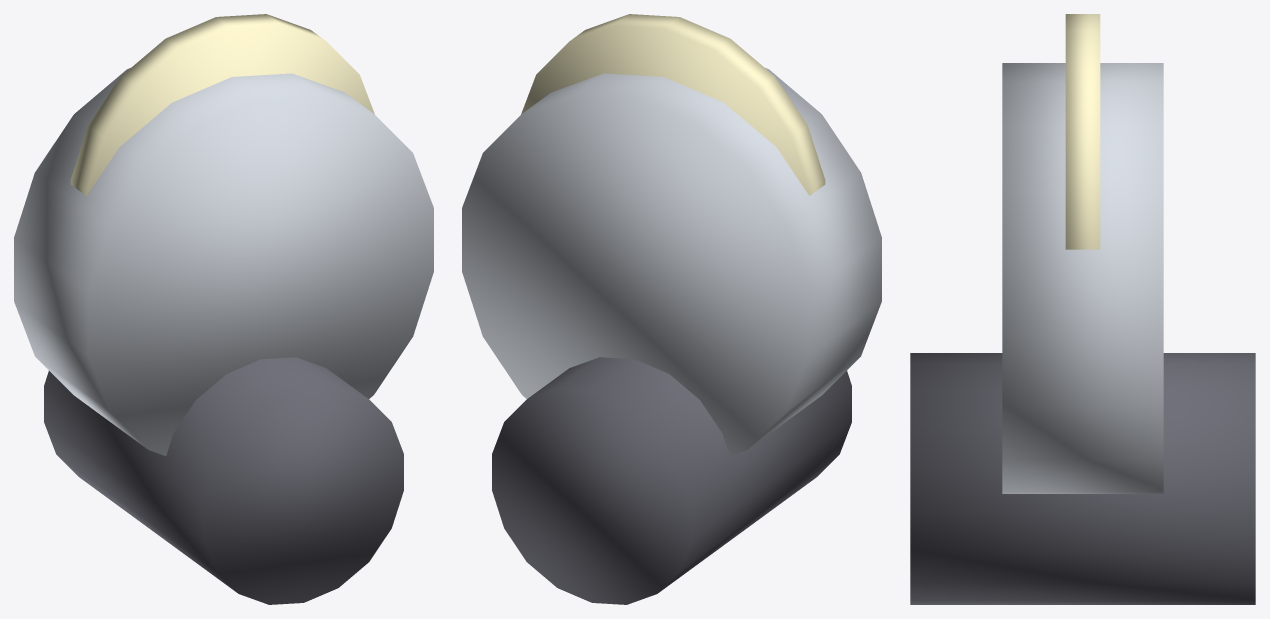
Rendered from Prop_RevealNeighbors.fbx.
3 views of the same model, side by side, from view 1: azimuth 30°, elevation 25°; view 2: azimuth 150°, elevation 25°; view 3: azimuth 270°, elevation 25° (orthographic). The views are drawn at different scales.
Parts seen in each view (by area): view 1: Prop_RevealNeighbors; view 2: Prop_RevealNeighbors; view 3: Prop_RevealNeighbors.
Part boxes in pixels (<box>): Prop_RevealNeighbors: <box>14,14,433,604</box>; Prop_RevealNeighbors: <box>462,14,881,604</box>; Prop_RevealNeighbors: <box>910,14,1255,604</box>.
Bounding box in the file's own units: 7.48 × 10.8 × 6.
